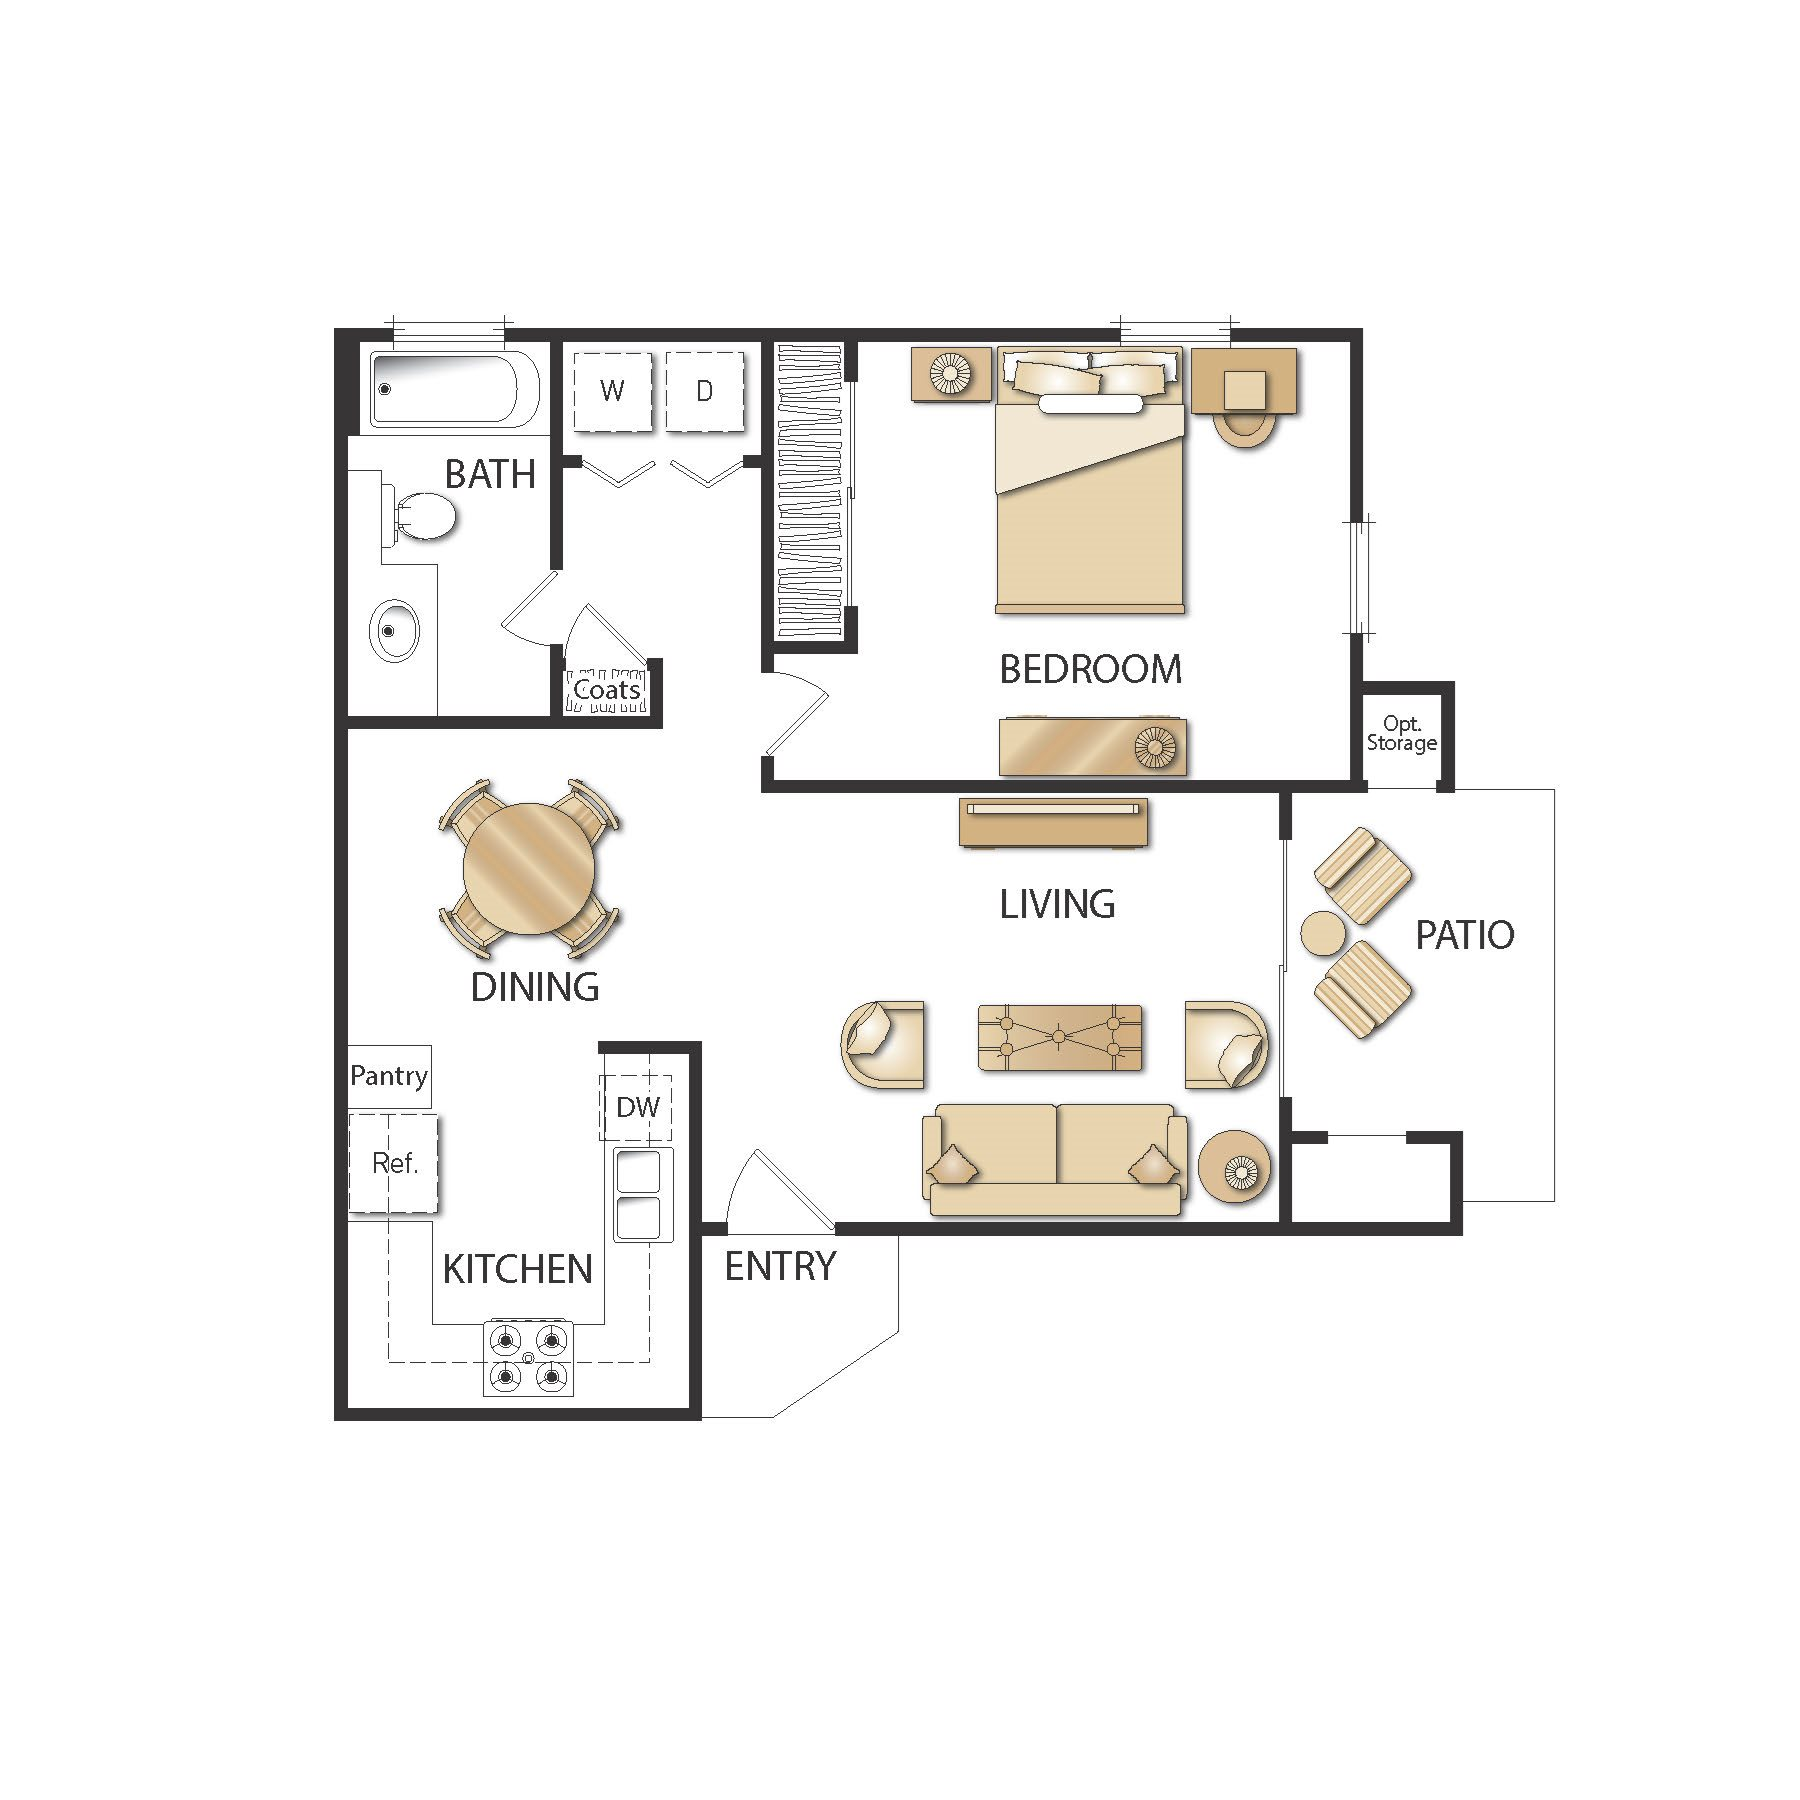door: (714, 1137, 842, 1220), (577, 453, 748, 504), (776, 659, 844, 770), (480, 551, 547, 661), (565, 592, 648, 654)
